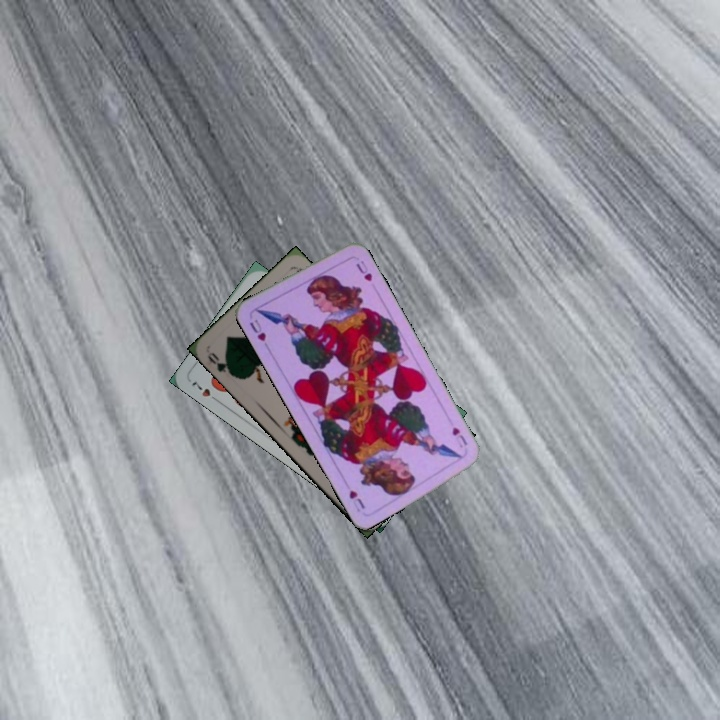GO: (203, 348, 238, 379)
H7: (188, 377, 222, 405)
HU: (246, 315, 269, 344), (448, 423, 470, 450)
